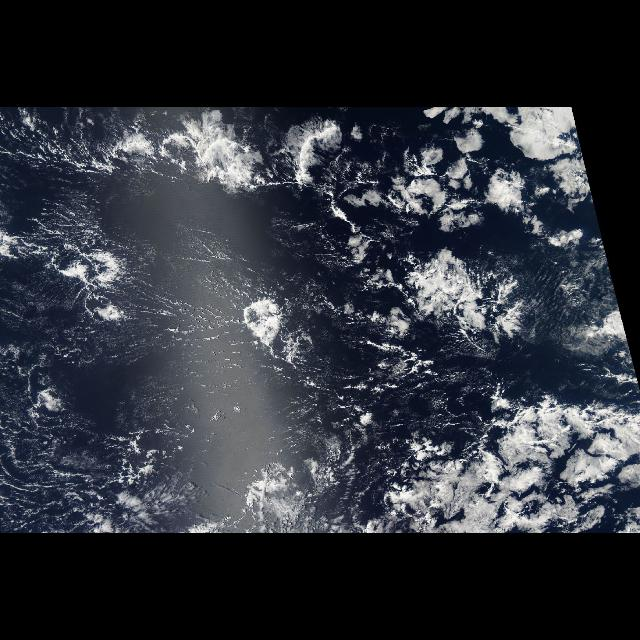Fish: (11, 107, 351, 201)
Flower: (332, 381, 640, 534), (349, 107, 605, 237)
Gravel: (1, 328, 263, 534)
